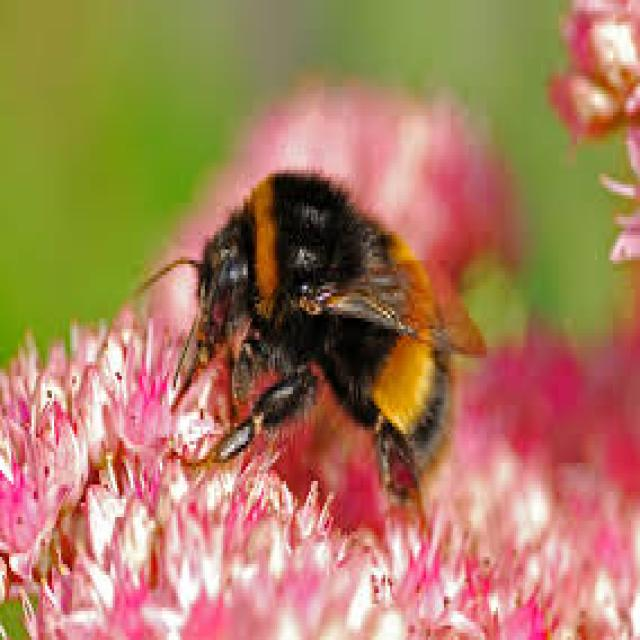Bees: (136, 166, 487, 530)
